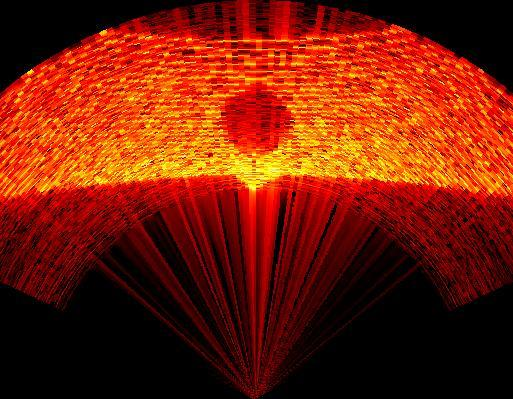box_crate: (221, 80, 296, 196)
